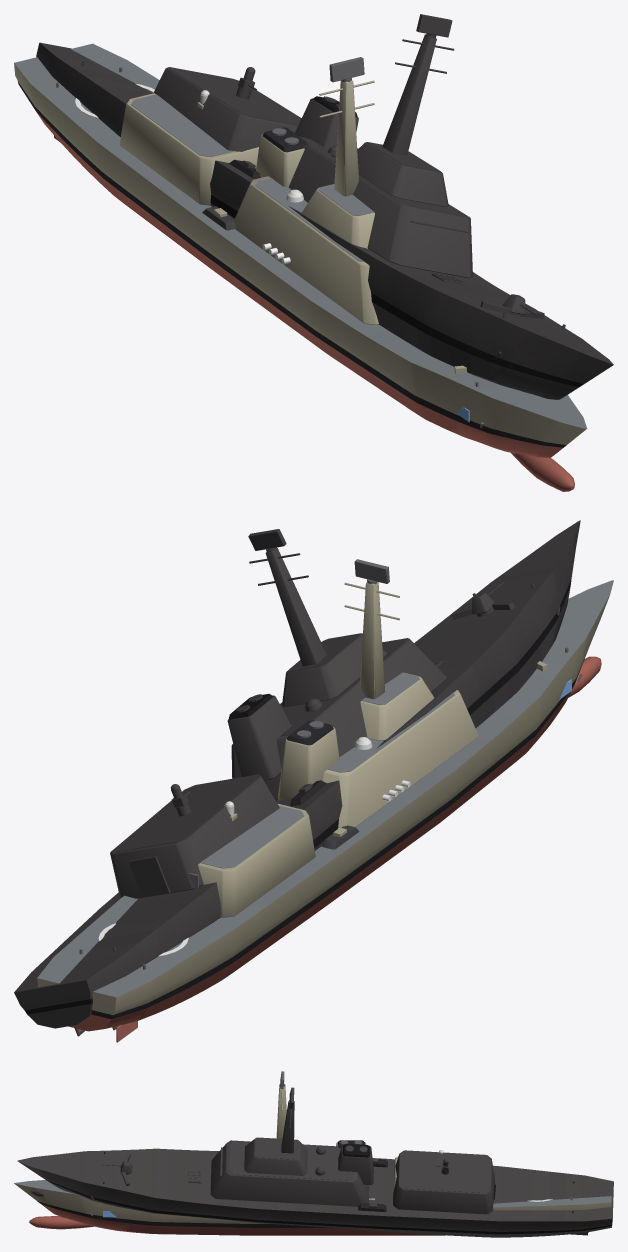
Rendered from corvette__babur_class_milgem.glb.
3 views of the same model, one above another, from view 1: azimuth 30°, elevation 25°; view 2: azimuth 150°, elevation 25°; view 3: azimuth 270°, elevation 25° (orthographic). The views are drawn at different scales.
Parts seen in each view (by area): view 1: Hull_Mesh, Wreck, Radar_Mesh; view 2: Hull_Mesh, Wreck; view 3: Wreck, Hull_Mesh.
Part boxes in pixels (<box>): Hull_Mesh: <box>14,43,587,491</box>; Wreck: <box>36,14,613,399</box>; Radar_Mesh: <box>329,57,364,82</box>; Hull_Mesh: <box>37,580,613,1042</box>; Wreck: <box>14,520,580,1036</box>; Wreck: <box>17,1087,613,1237</box>; Hull_Mesh: <box>14,1086,611,1235</box>.
Size of what is drawn, in the model's own units: 21.39 by 34.48 by 113.
